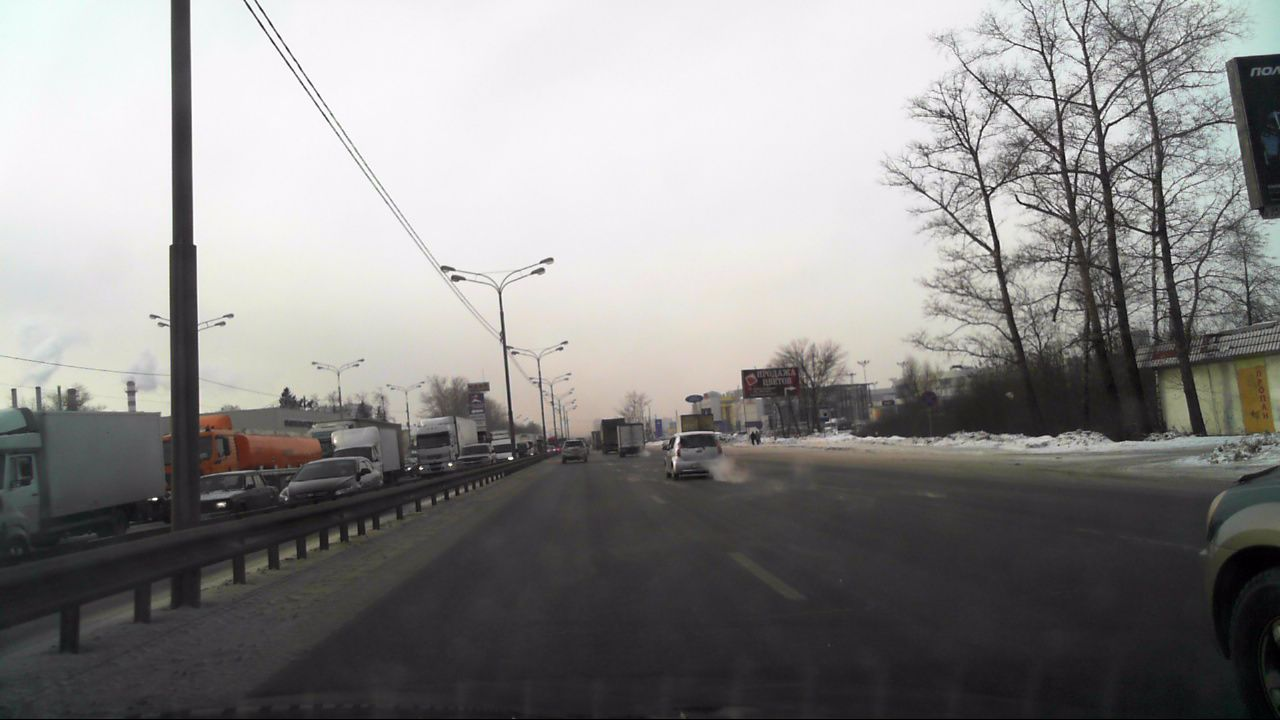No Parking: (920, 391, 936, 407)
